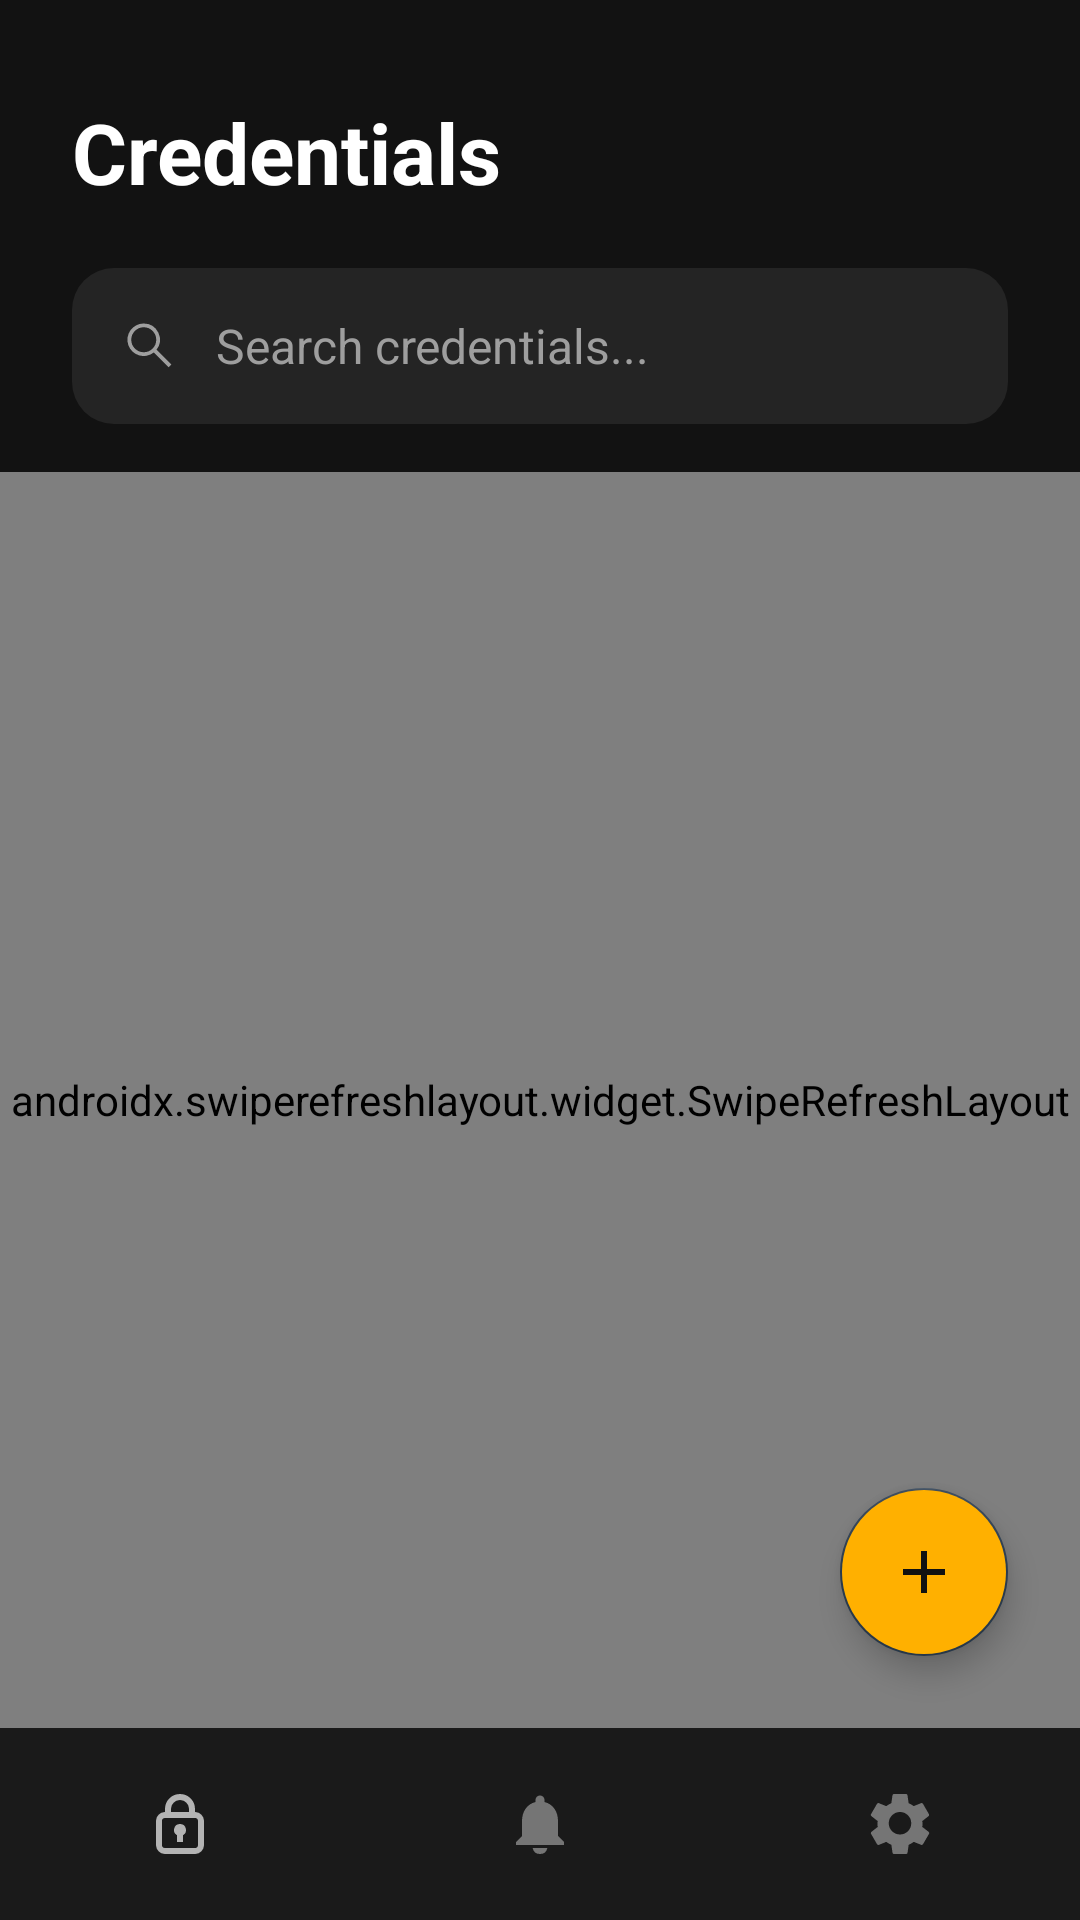

Icons on this 1080*1920 Android screen, each with the point to tap as (x=x, y=y):
Add credential: (x=924, y=1572)
Credentials: (x=180, y=1824)
Notifications: (x=540, y=1824)
Settings: (x=900, y=1824)
